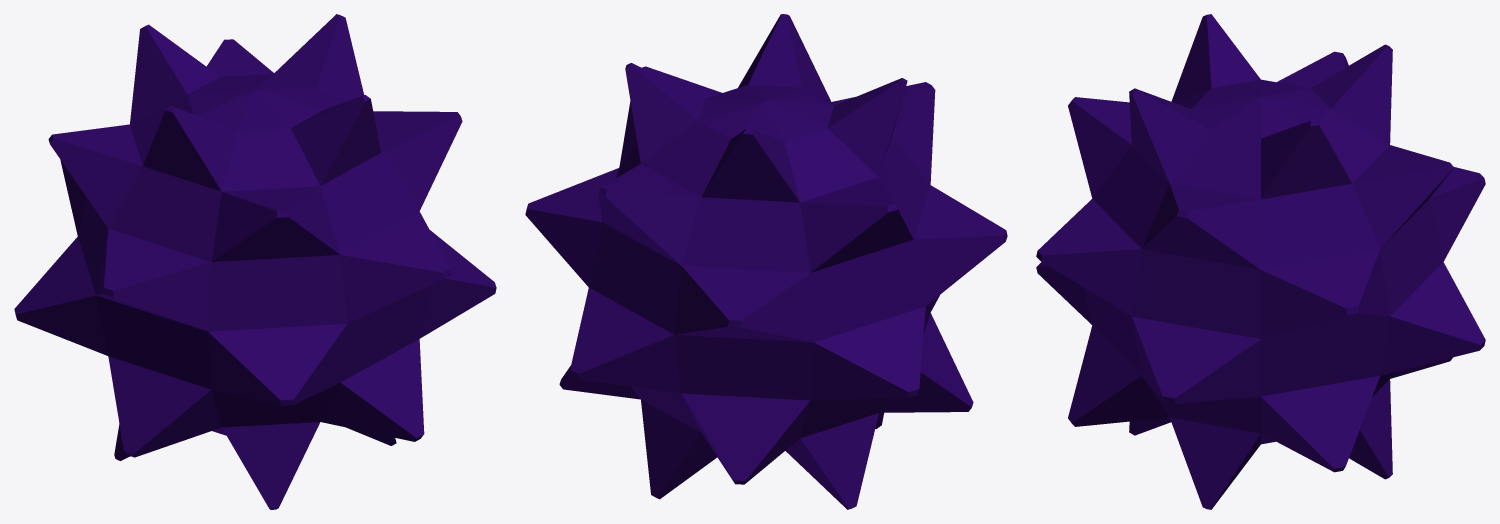
The model's file is enemy.obj.
The picture shows the model from 3 angles, left to right: view 1: azimuth 30°, elevation 25°; view 2: azimuth 150°, elevation 25°; view 3: azimuth 270°, elevation 25°; orthographic projection.
Parts seen in each view (by area): view 1: Sphere.003; view 2: Sphere.003; view 3: Sphere.003.
Part boxes in pixels (box(x1,y1,x2,y2)): Sphere.003: box(14, 14, 496, 509); Sphere.003: box(525, 14, 1007, 509); Sphere.003: box(1036, 14, 1485, 509).
Bounding box in the file's own units: 2.46 × 2.35 × 2.46.
